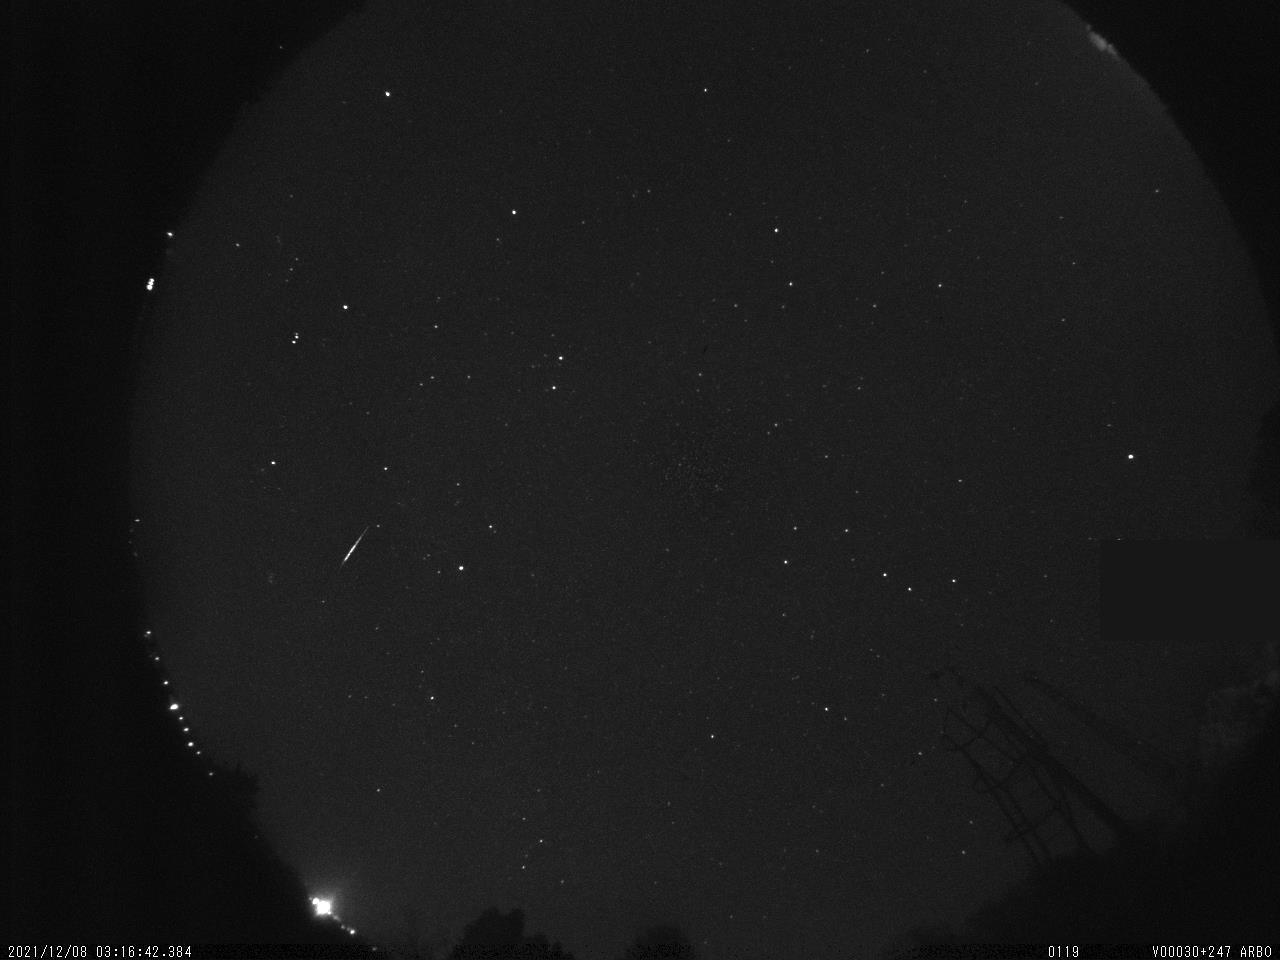meteor: (323, 515, 386, 577)
